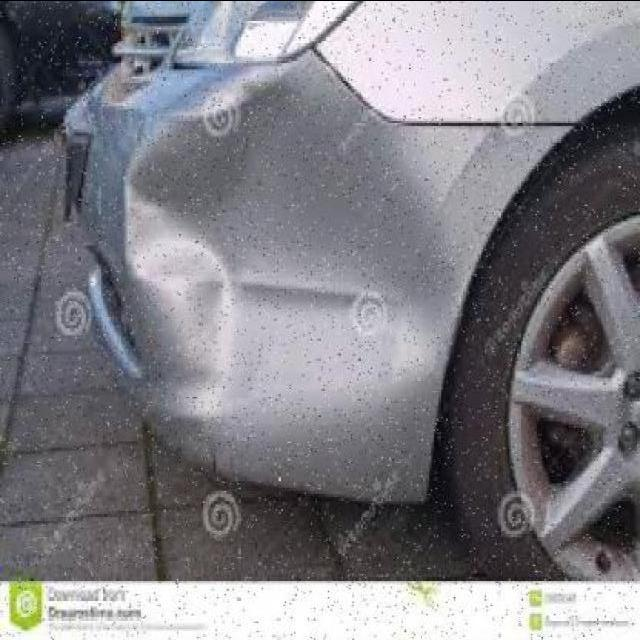front-bumper-dent: (8, 63, 526, 527)
